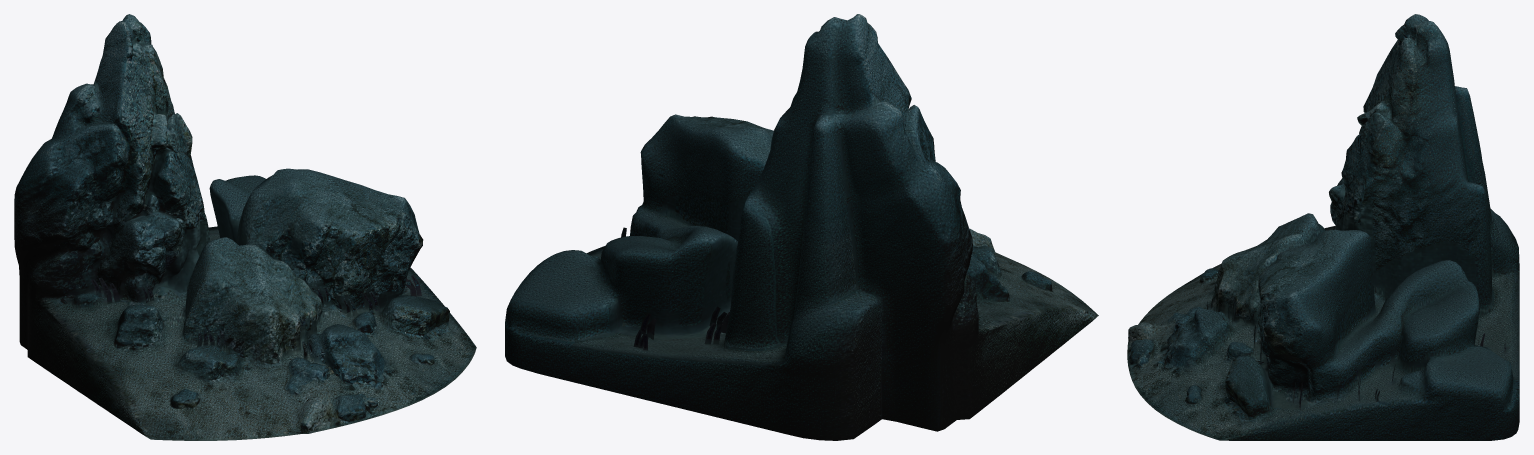
The model's file is rocks3.glb.
3 views of the same model, side by side, from view 1: azimuth 30°, elevation 25°; view 2: azimuth 150°, elevation 25°; view 3: azimuth 270°, elevation 25° (orthographic). The views are drawn at different scales.
Parts seen in each view (by area): view 1: bcceeba2-5354-4059-9a7a-513f6a5d9b6c; view 2: bcceeba2-5354-4059-9a7a-513f6a5d9b6c; view 3: bcceeba2-5354-4059-9a7a-513f6a5d9b6c.
Boxes of the visible parts, x1,y1,x2,y2 form: bcceeba2-5354-4059-9a7a-513f6a5d9b6c: (14,14,476,440); bcceeba2-5354-4059-9a7a-513f6a5d9b6c: (505,14,1098,440); bcceeba2-5354-4059-9a7a-513f6a5d9b6c: (1127,14,1519,440).
Bounding box in the file's own units: 0.9995 × 0.8608 × 0.9995.
Materials: 1 (1 with a texture image).
